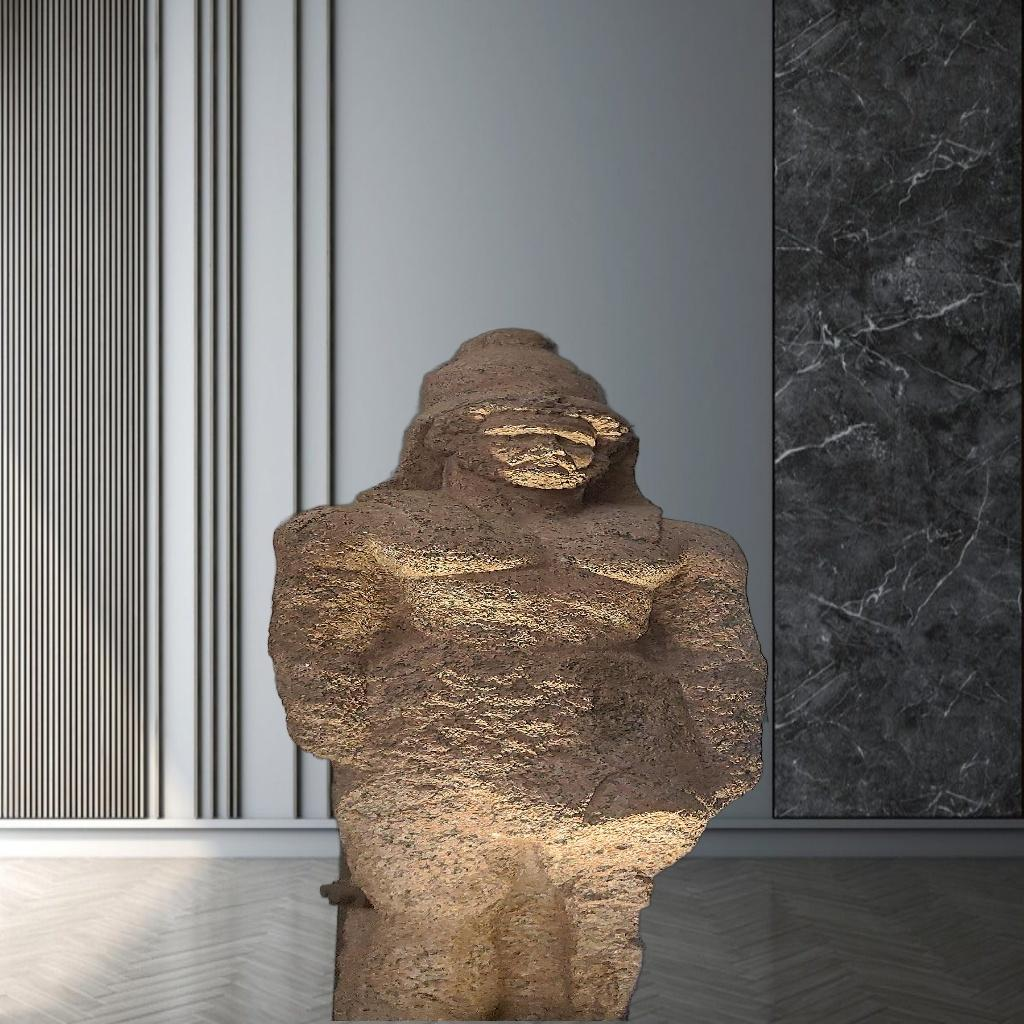Statue of Carcala: (260, 325, 774, 1021)
